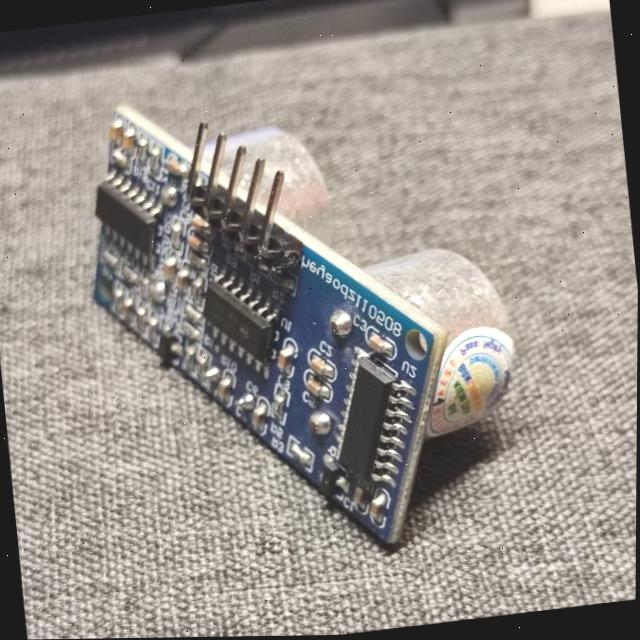Ultrasonic Sensor: (69, 72, 624, 579)
